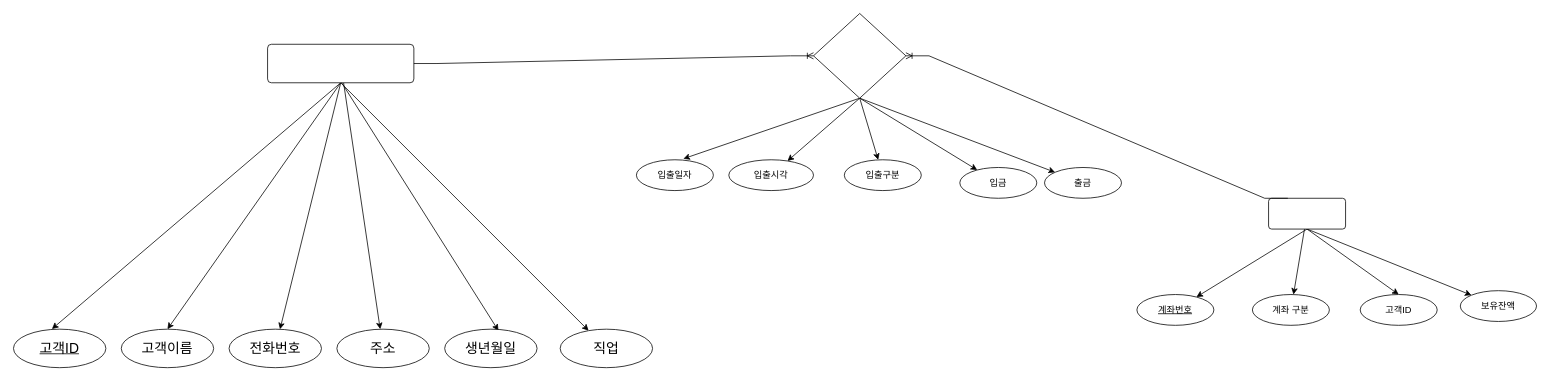
This 1550x381 diagram has some shape labels left out. Here are the shapes that lost their labels. From the top down, the centre of each, then its label:
At point (340, 63): "고객정보".
At point (859, 55): "거래내역'".
At point (1307, 213): "계좌정보".
